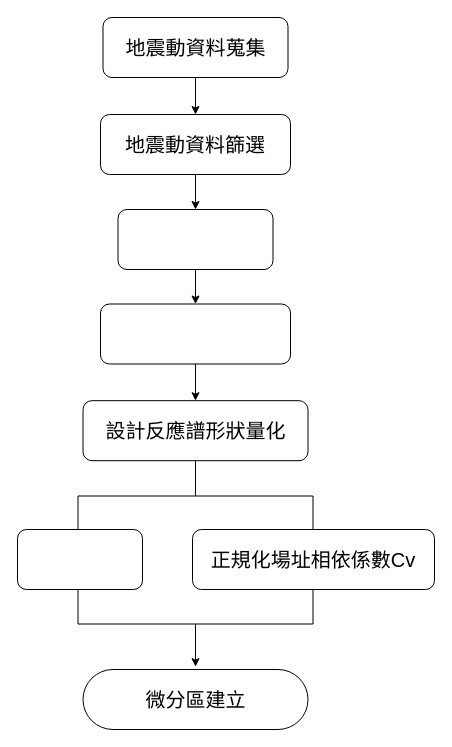
Image size: 452x747. Some labels were removed from this diagram. The shapes that lost their labels are listed below. From the top down, each one's centre as x and y in pixels, then its label:
At [195,239]: "反應譜繪製".
At [195,333]: "設計反應譜擬合".
At [79,559]: "轉角週期T 0".
